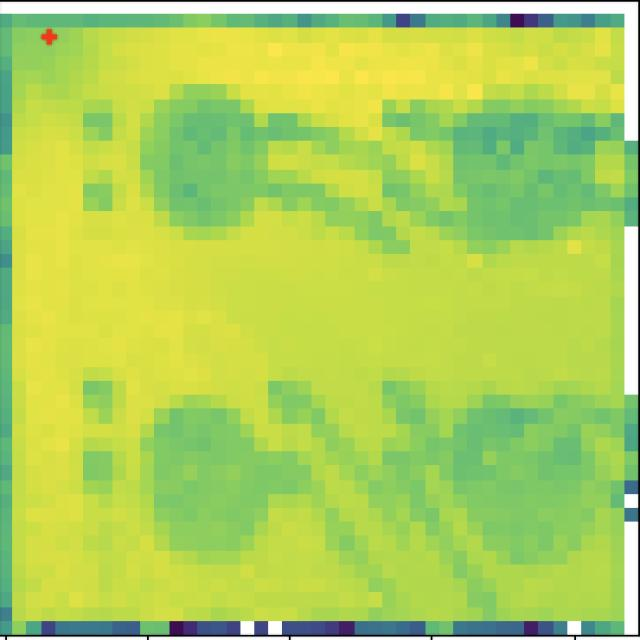Concrete: (442, 392, 596, 569)
Glass: (450, 84, 598, 253)
Metal: (139, 398, 275, 559)
Wood: (138, 74, 294, 244)
